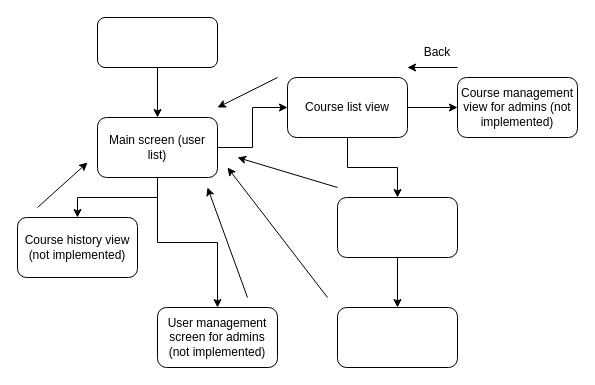
Image size: 595x385. Some labels were removed from this diagram. Each missing label, with the centre of its shape:
Course (for example external website or video, not implemented): [397,337]
Course information view: [397,227]
Login screen (not implemented): [157,42]
